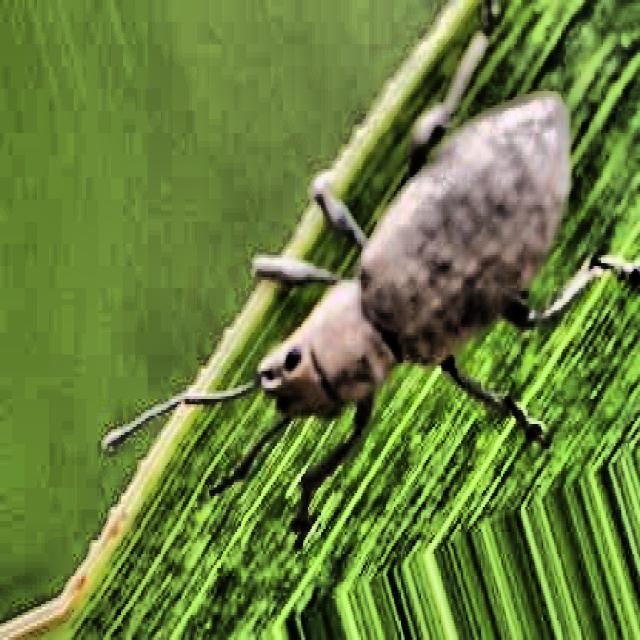Stink bug: (217, 51, 579, 554)
